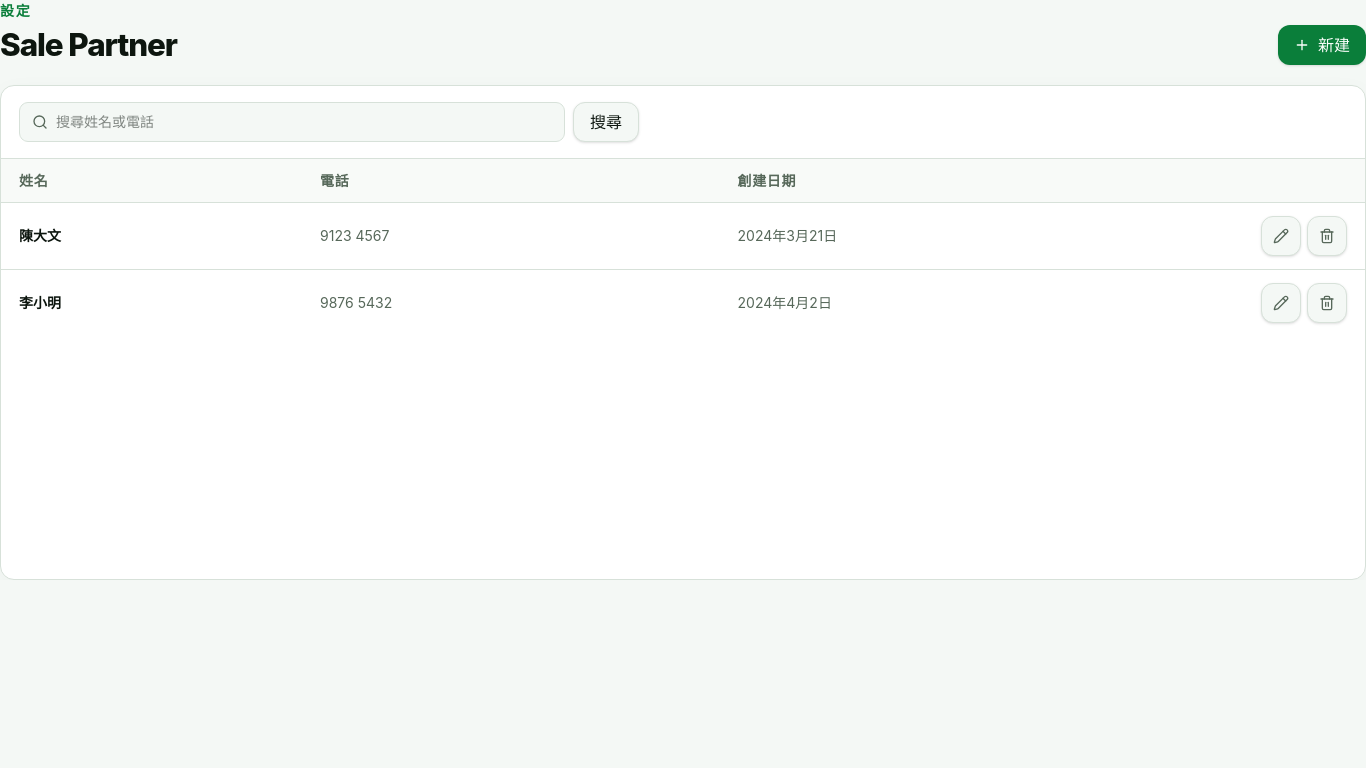
Test: Sale Partner page › opens the create panel and adds a partner
The width and height of the screenshot is (1366, 768).
Expected: the text "陳大文" is shown, x1=19 y1=227 x2=61 y2=244
Click the button "新建": (1322, 45) x1=1278 y1=25 x2=1365 y2=65
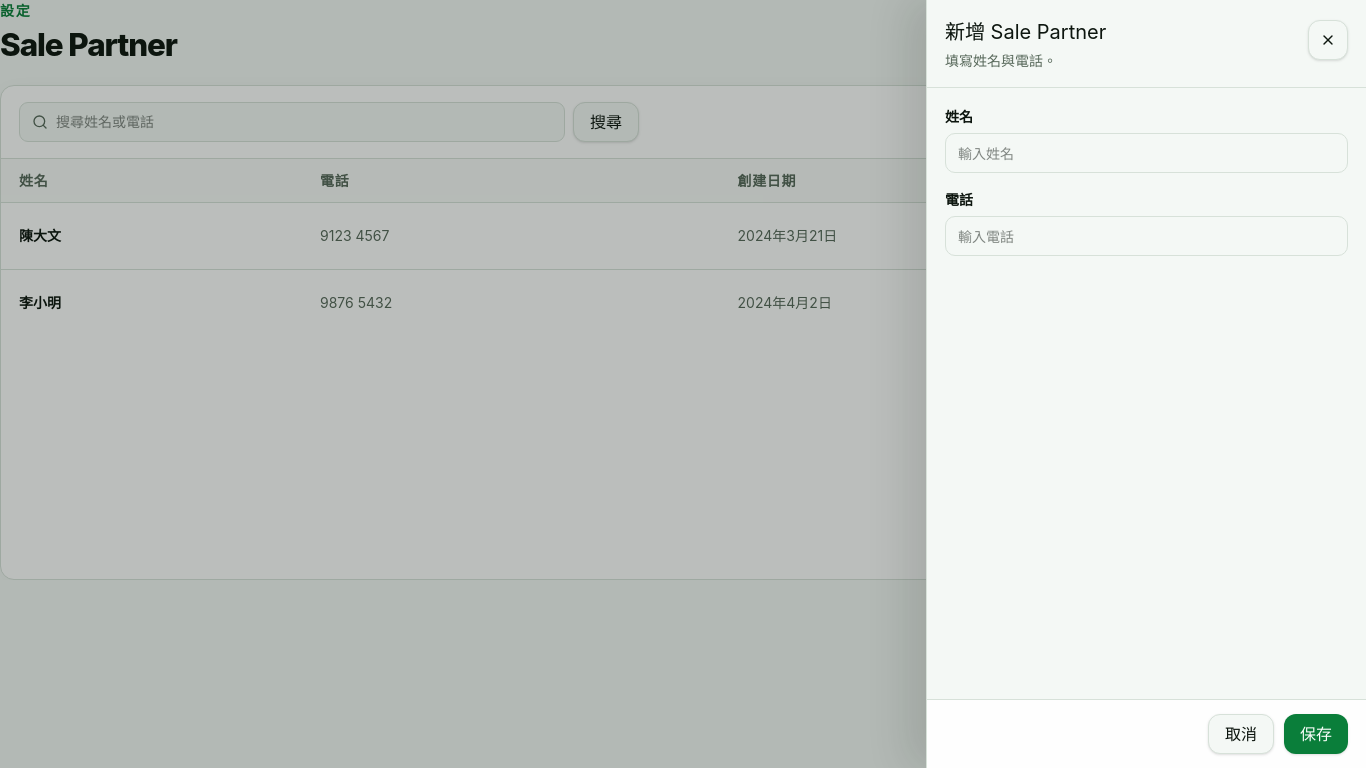
Expected: the dialog "新增 Sale Partner" is shown, x1=926 y1=0 x2=1365 y2=767
In the field with placeholder "輸入姓名": (1146, 153) x1=945 y1=133 x2=1348 y2=173, type "王美玲"
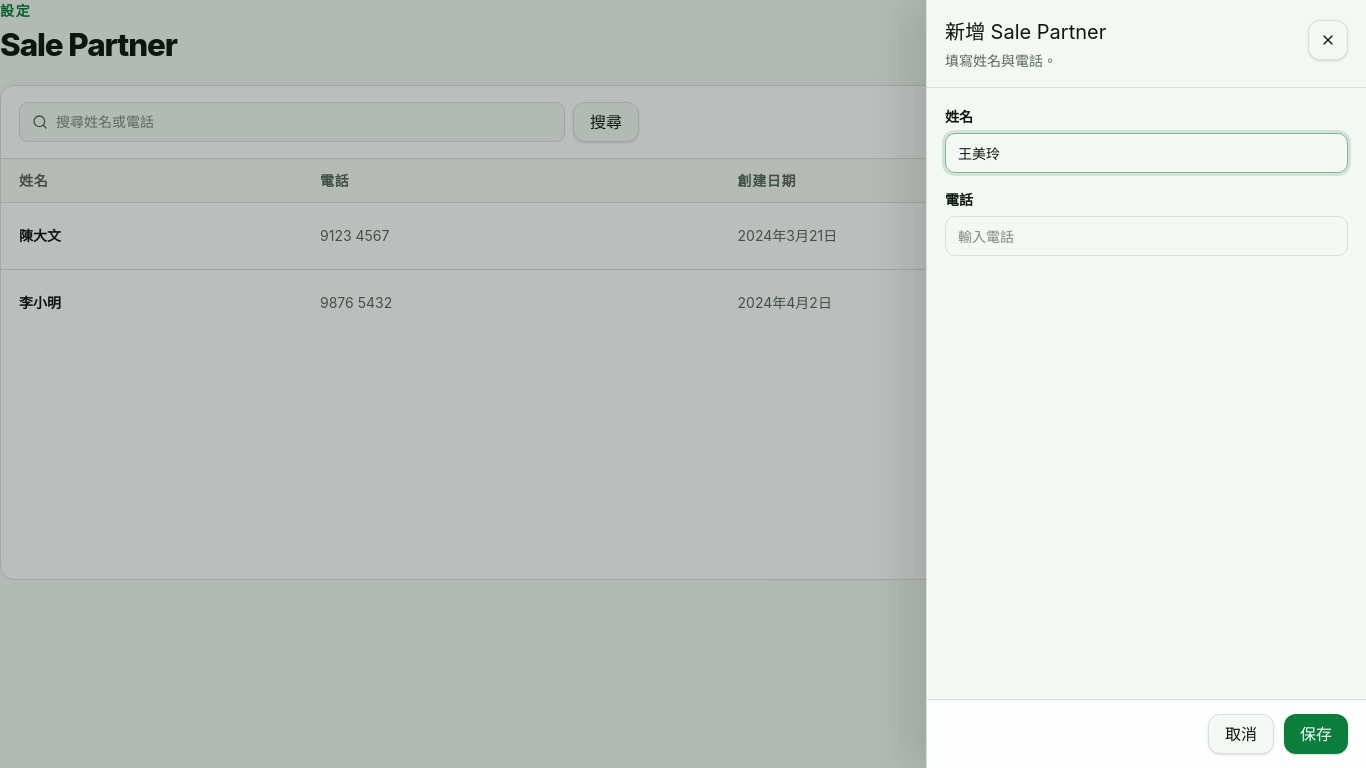
In the field with placeholder "輸入電話": (1146, 236) x1=945 y1=216 x2=1348 y2=256, type "6111 2222"
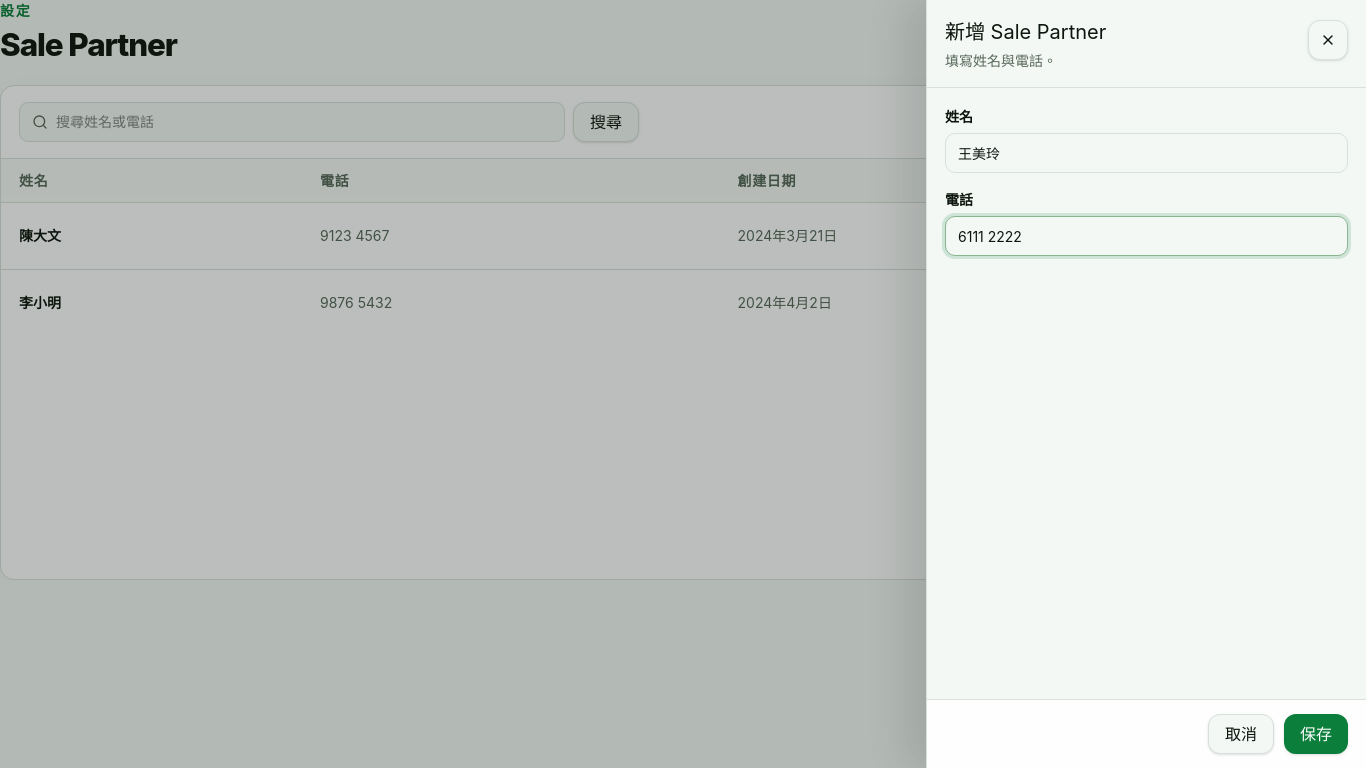
Click the button "保存": (1316, 734) x1=1284 y1=714 x2=1348 y2=754
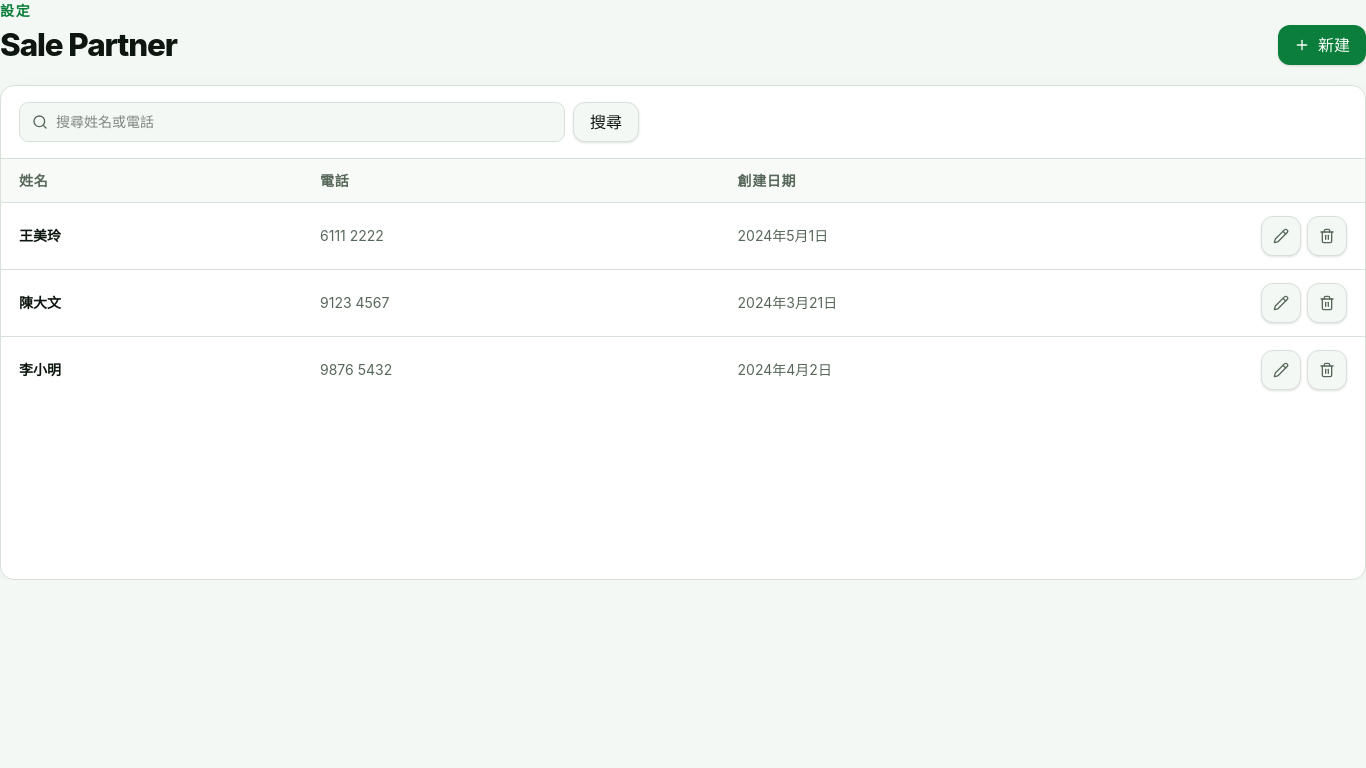
Expected: the text "王美玲" is shown, x1=19 y1=227 x2=61 y2=244
